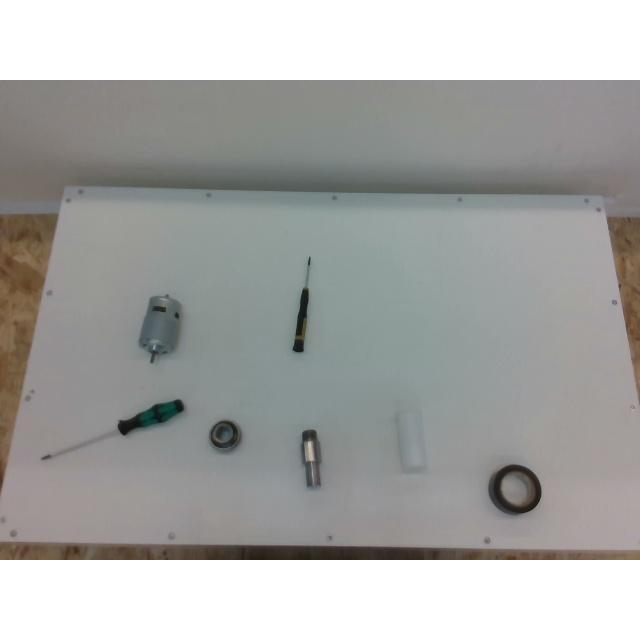Axis2: (301, 428, 321, 488)
Bearing2: (208, 421, 240, 452)
Motor2: (139, 294, 181, 362)
Screwdriver: (41, 400, 183, 460)
Spacer: (396, 408, 426, 472)
